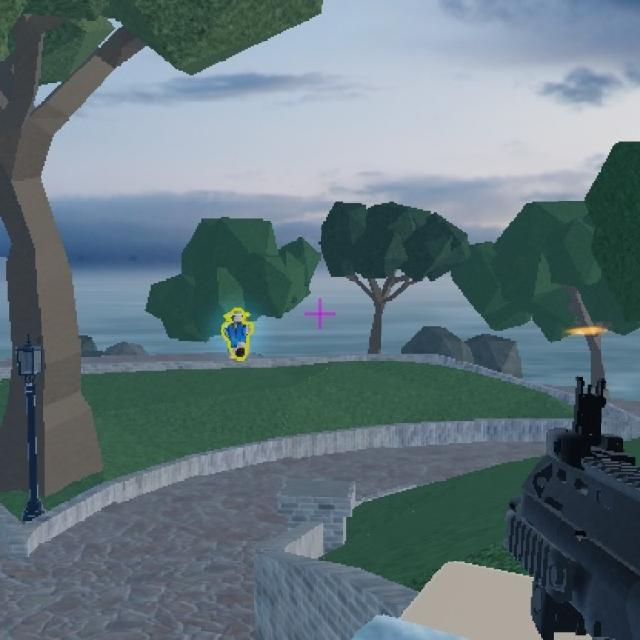player: (225, 306, 252, 358)
